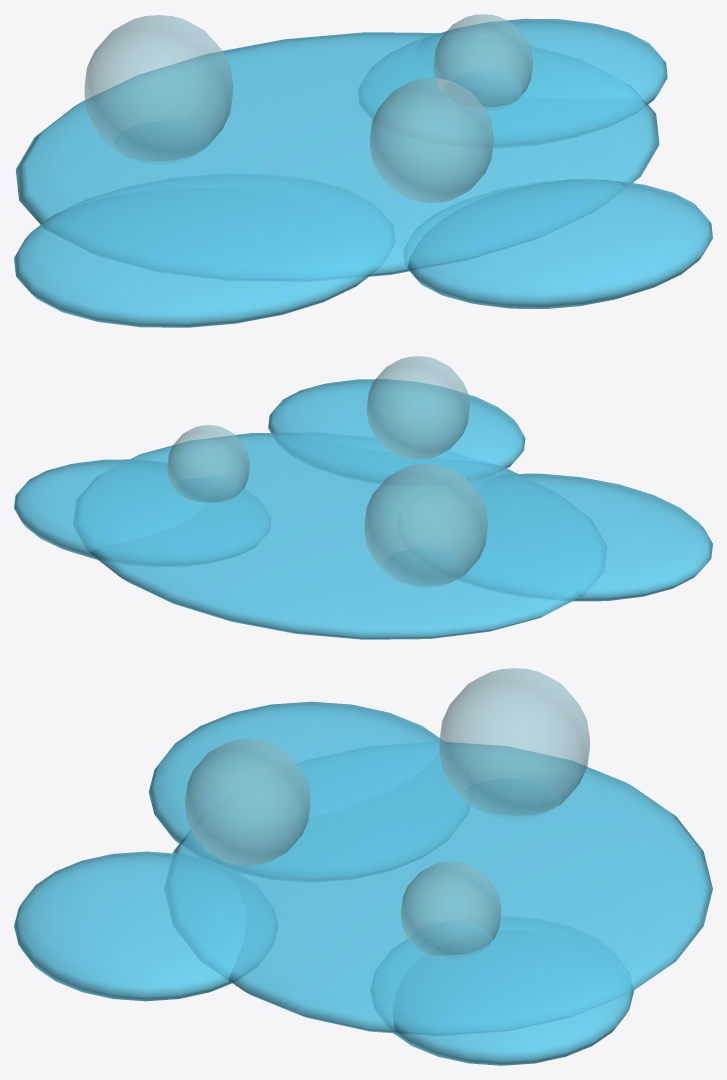
The model's file is Soap_Puddle.glb.
3 renders of one model, top to bottom at view 1: azimuth 30°, elevation 25°; view 2: azimuth 150°, elevation 25°; view 3: azimuth 270°, elevation 25°, orthographic. The views are drawn at different scales.
Parts seen in each view (by area): view 1: Soap_Puddle; view 2: Soap_Puddle; view 3: Soap_Puddle.
Part boxes in pixels (x1,y1,x2,y2): Soap_Puddle: (14, 14, 712, 327); Soap_Puddle: (14, 356, 712, 639); Soap_Puddle: (14, 668, 712, 1065).
Size of the model in its own units: 0.66 by 0.15 by 0.55.
